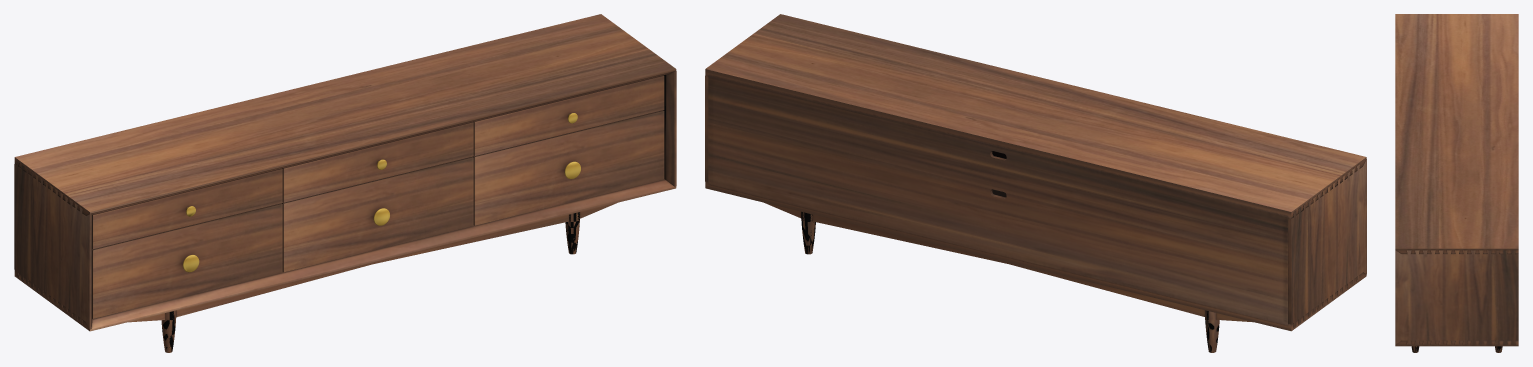
The model's file is Cabinet8.obj.
The picture shows the model from 3 angles, left to right: view 1: azimuth 30°, elevation 25°; view 2: azimuth 150°, elevation 25°; view 3: azimuth 270°, elevation 25°; orthographic projection. The views are drawn at different scales.
Visible parts, largest first — view 1: solid_002, solid_001; view 2: solid_002; view 3: solid_002.
Part boxes in pixels (box(x1,y1,x2,y2)): solid_002: box(14, 14, 676, 352); solid_001: box(182, 113, 580, 272); solid_002: box(705, 14, 1366, 352); solid_002: box(1395, 14, 1518, 352).
Size of the model in its own units: 2 by 0.5551 by 0.4444.
1 material, 1 textured.
